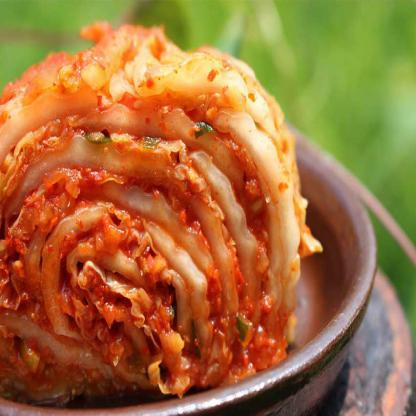kimchi: (0, 19, 314, 398)
